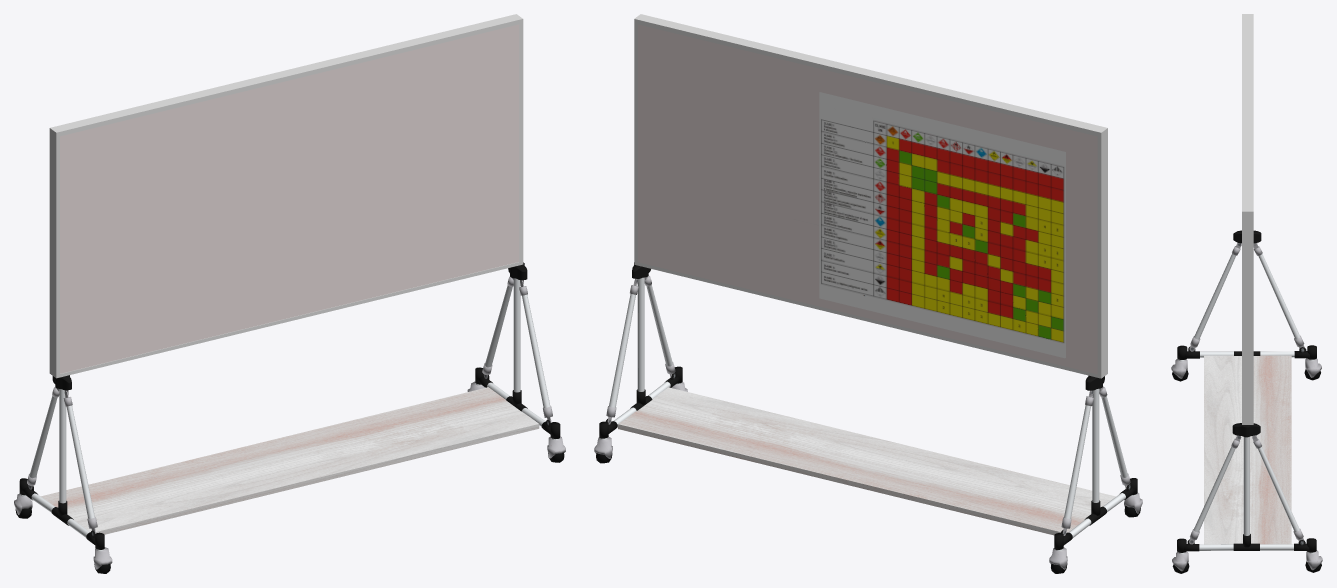
File: Tablero DFCG.fbx
3 views of the same model, side by side, from view 1: azimuth 30°, elevation 25°; view 2: azimuth 150°, elevation 25°; view 3: azimuth 270°, elevation 25° (orthographic). The views are drawn at different scales.
Visible parts, largest first — view 1: Cube.001, patas, tablero marco, patas plastico blanco.001, patas plastico blanco, patas metal negro.001, patas metal negro; view 2: tablero, matriz, patas, tablero marco, patas plastico blanco.001, patas plastico blanco, patas metal negro.001, patas metal negro; view 3: patas, tablero marco, patas plastico blanco, patas plastico blanco.001, patas metal negro, patas metal negro.001, patas.001, patas metal gris.001, rueda soporte.002, rueda soporte.001, rueda soporte.003, rueda soporte.
Boxes of the visible parts, x1,y1,x2,y2 form: Cube.001: (60, 24, 519, 373); patas: (41, 387, 539, 534); tablero marco: (49, 14, 523, 378); patas plastico blanco.001: (20, 389, 103, 551); patas plastico blanco: (476, 278, 558, 440); patas metal negro.001: (19, 375, 104, 549); patas metal negro: (475, 262, 560, 438); tablero: (638, 24, 1097, 374); matriz: (819, 92, 1065, 358); patas: (618, 387, 1115, 535); tablero marco: (634, 14, 1107, 378); patas plastico blanco.001: (1056, 388, 1136, 551); patas plastico blanco: (600, 277, 681, 439); patas metal negro.001: (1054, 375, 1137, 549); patas metal negro: (599, 262, 682, 438); patas: (1204, 355, 1291, 544); tablero marco: (1242, 14, 1253, 424); patas plastico blanco: (1179, 436, 1314, 554); patas plastico blanco.001: (1179, 253, 1314, 361); patas metal negro: (1177, 423, 1316, 552); patas metal negro.001: (1177, 230, 1316, 359); patas.001: (1189, 435, 1303, 544); patas metal gris.001: (1189, 242, 1304, 351); rueda soporte.002: (1171, 358, 1187, 378); rueda soporte.001: (1172, 551, 1188, 571); rueda soporte.003: (1305, 358, 1321, 377); rueda soporte: (1306, 550, 1322, 570).
Size of the model in its own units: 49.31 by 41.68 by 15.78.
